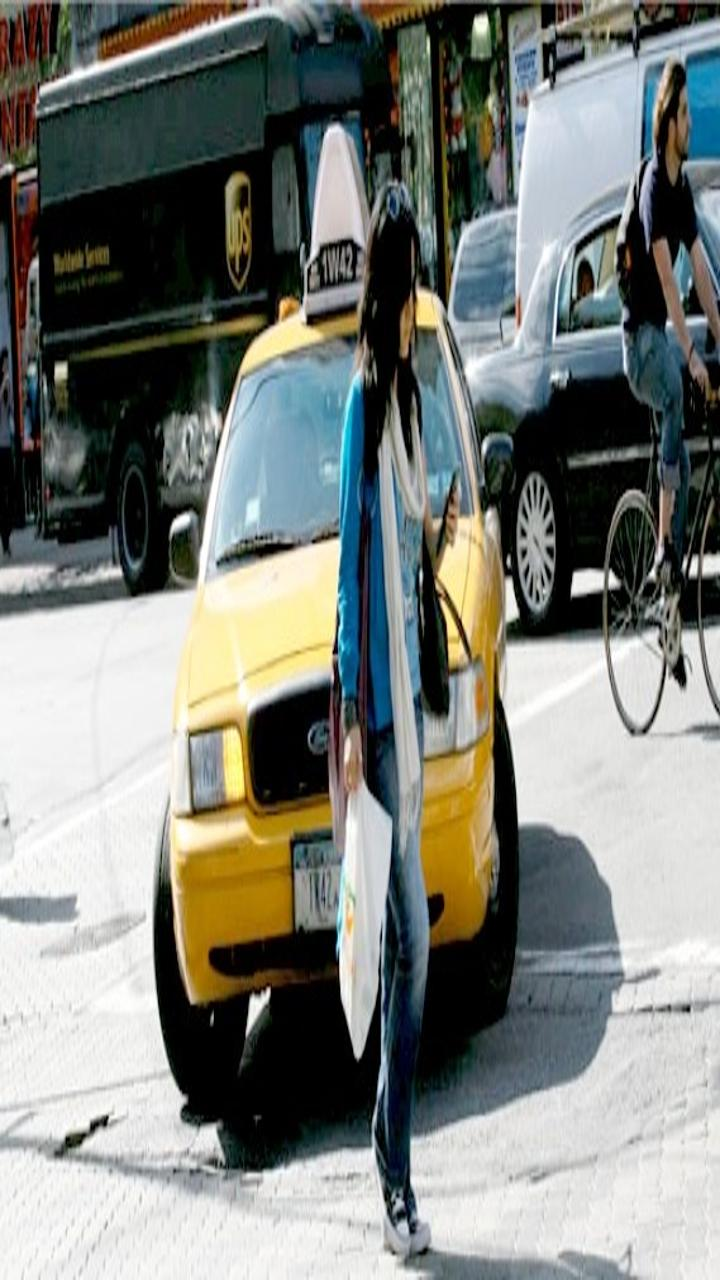bicycle: (592, 408, 720, 738)
cyclist: (611, 44, 720, 694)
pedestrian: (338, 165, 478, 1280)
vehicle: (136, 156, 480, 1069)
